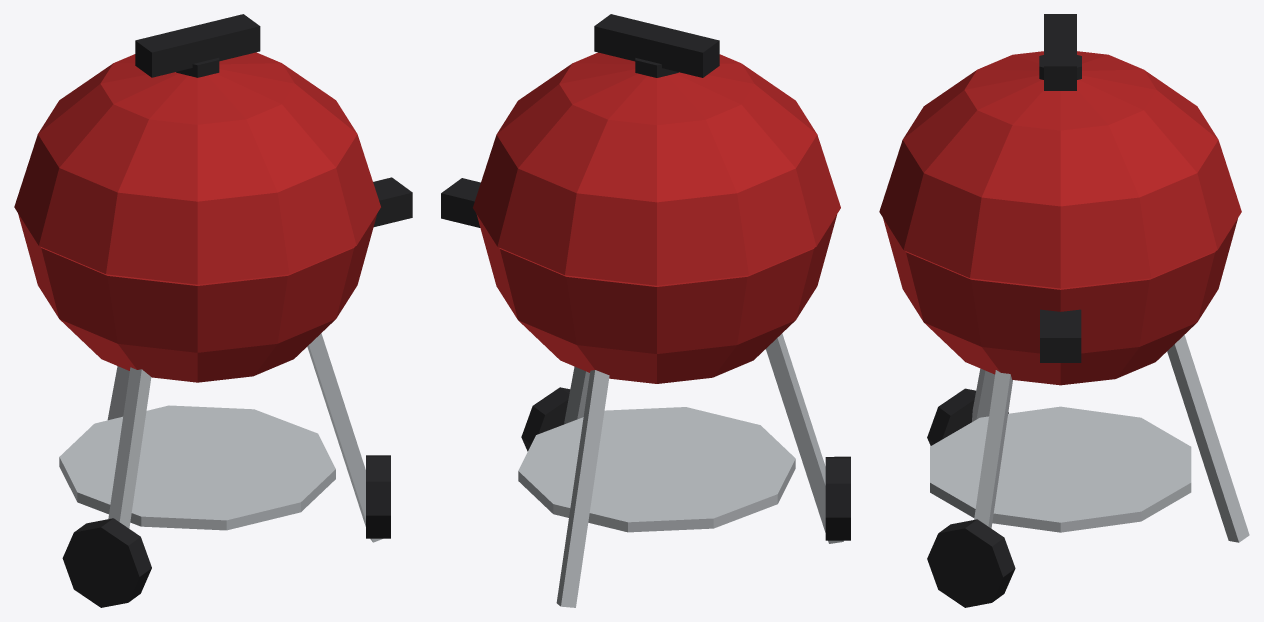
Rendered from kettle-grill.glb.
3 views of the same model, side by side, from view 1: azimuth 30°, elevation 25°; view 2: azimuth 150°, elevation 25°; view 3: azimuth 270°, elevation 25° (orthographic).
Visible parts, largest first — view 1: KettleGrill_Body, KettleGrill_Legs, KettleGrill_Black; view 2: KettleGrill_Body, KettleGrill_Legs, KettleGrill_Black; view 3: KettleGrill_Body, KettleGrill_Legs, KettleGrill_Black.
Boxes of the visible parts, x1,y1,x2,y2 form: KettleGrill_Body: [14, 52, 380, 382]; KettleGrill_Legs: [59, 333, 382, 542]; KettleGrill_Black: [62, 14, 412, 607]; KettleGrill_Body: [473, 52, 840, 383]; KettleGrill_Legs: [518, 333, 843, 607]; KettleGrill_Black: [441, 14, 850, 540]; KettleGrill_Body: [879, 51, 1241, 385]; KettleGrill_Legs: [930, 335, 1249, 542]; KettleGrill_Black: [927, 14, 1081, 607].
Bounding box in the file's own units: 3.06 × 4.02 × 2.7.
